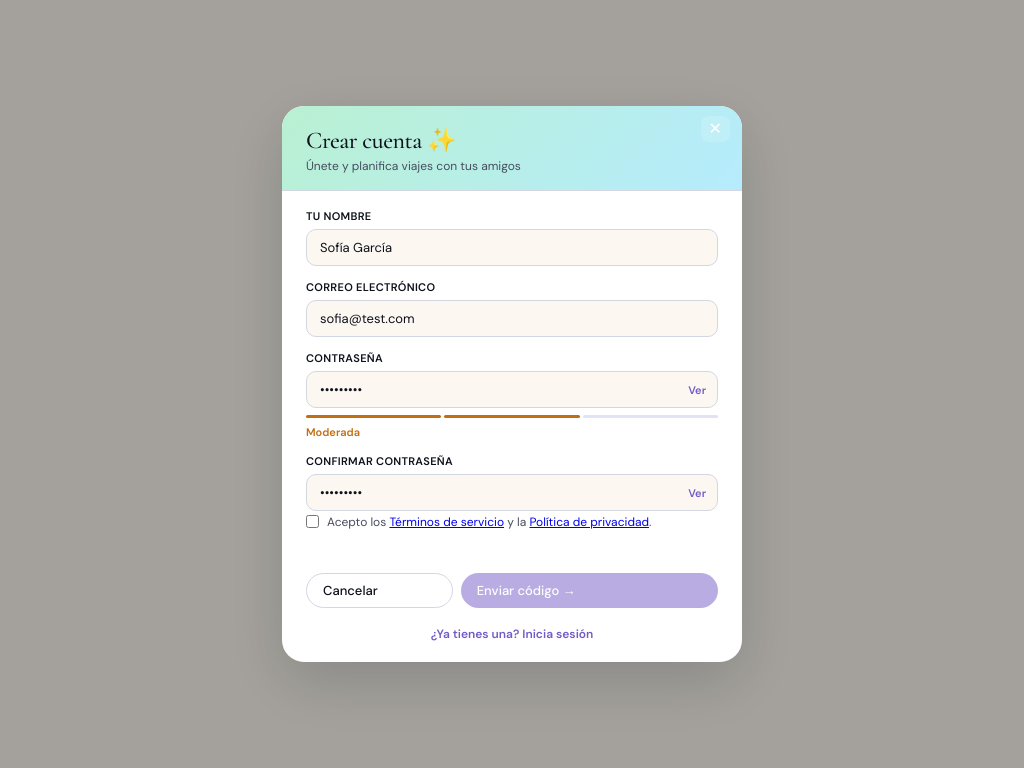
Scenario: AuthModalComponent — accept Terms of Service before registering (2026-09-09 feedback round 2, item 1) › re-disables the button if the checkbox is unchecked again
Click the checkbox: (312, 522) [306,515,319,528]
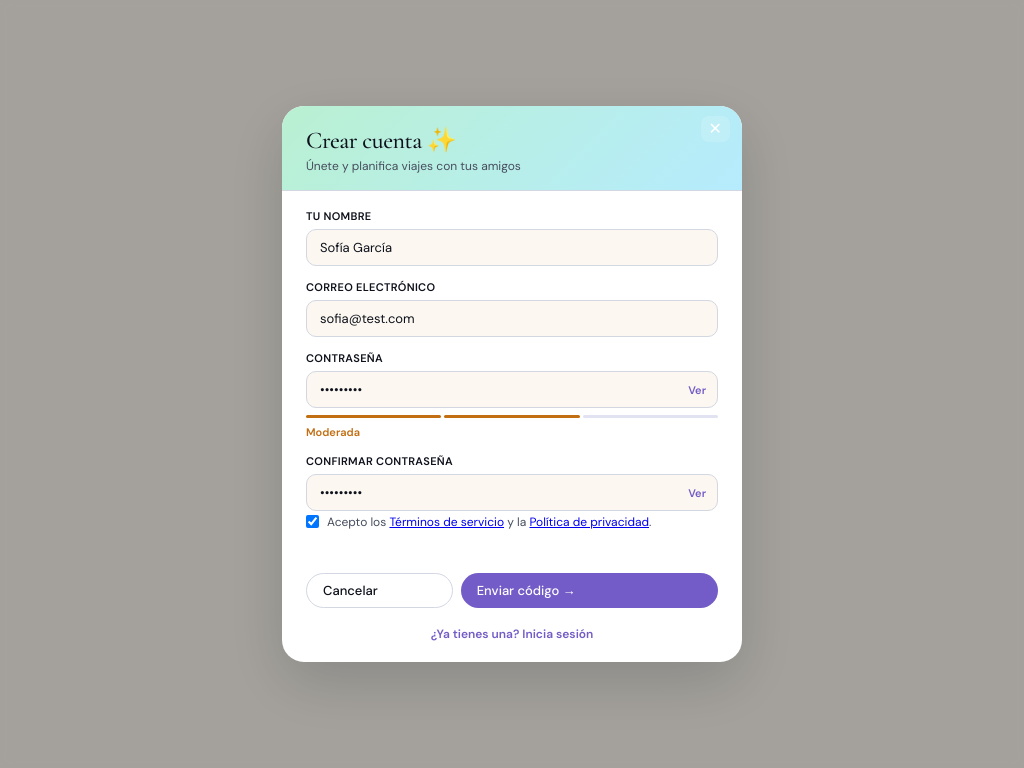
Expected: the button "Enviar código →" is enabled, [461,573,718,608]
Click the checkbox: (312, 522) [306,515,319,528]
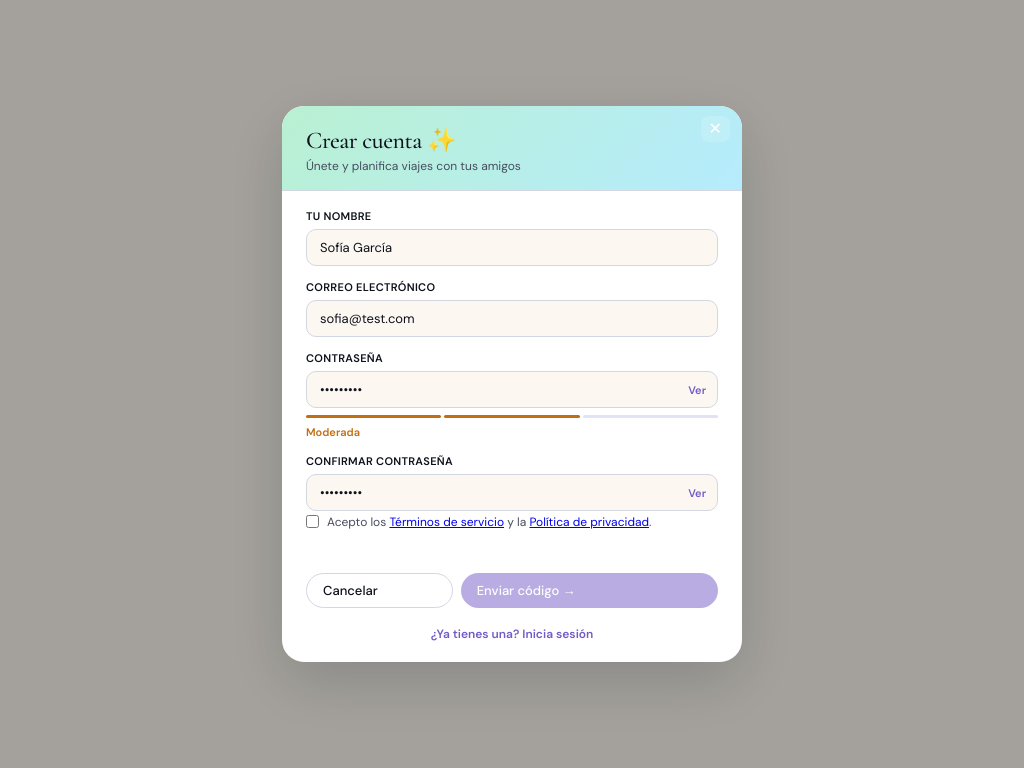
Expected: the button "Enviar código →" is disabled, [461,573,718,608]
